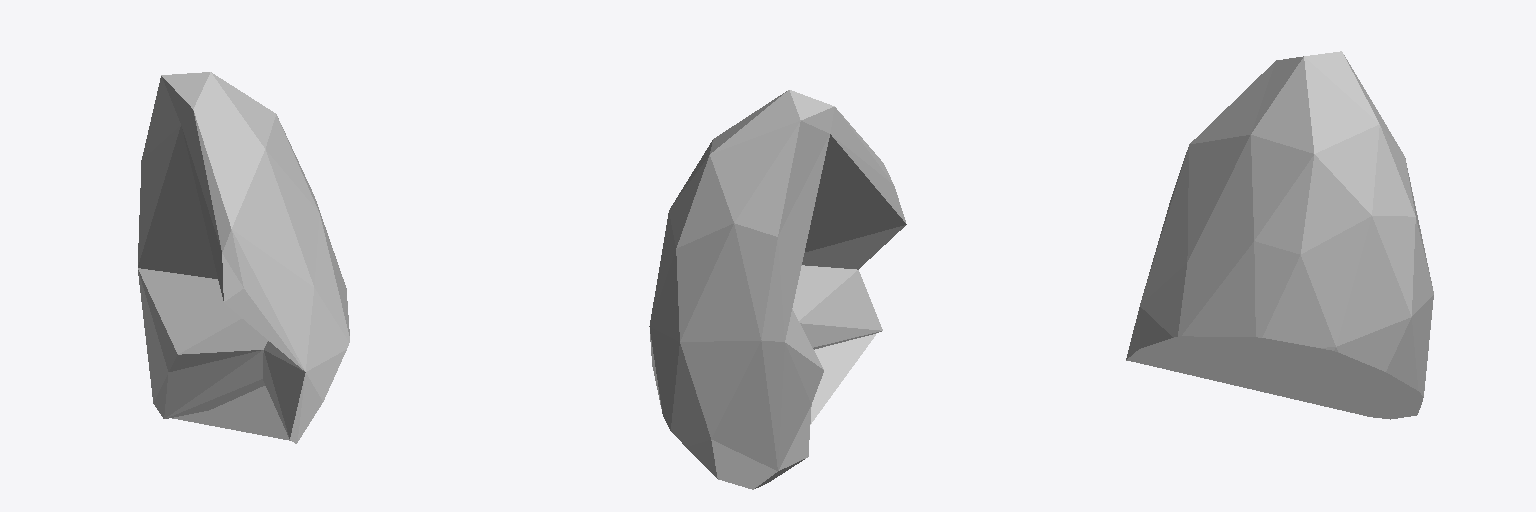
The model's file is SuperiorLob.obj.
The picture shows the model from 3 angles: view 1: azimuth 30°, elevation 25°; view 2: azimuth 150°, elevation 25°; view 3: azimuth 270°, elevation 25°; orthographic projection.
Visible parts, largest first — view 1: LungLeftLow_Icosphere.002; view 2: LungLeftLow_Icosphere.002; view 3: LungLeftLow_Icosphere.002.
Boxes of the visible parts, <box> form: LungLeftLow_Icosphere.002: <box>138,72,349,443</box>; LungLeftLow_Icosphere.002: <box>649,90,906,489</box>; LungLeftLow_Icosphere.002: <box>1126,51,1433,419</box>.
Size of the model in its own units: 0.2428 by 0.4976 by 0.3789.